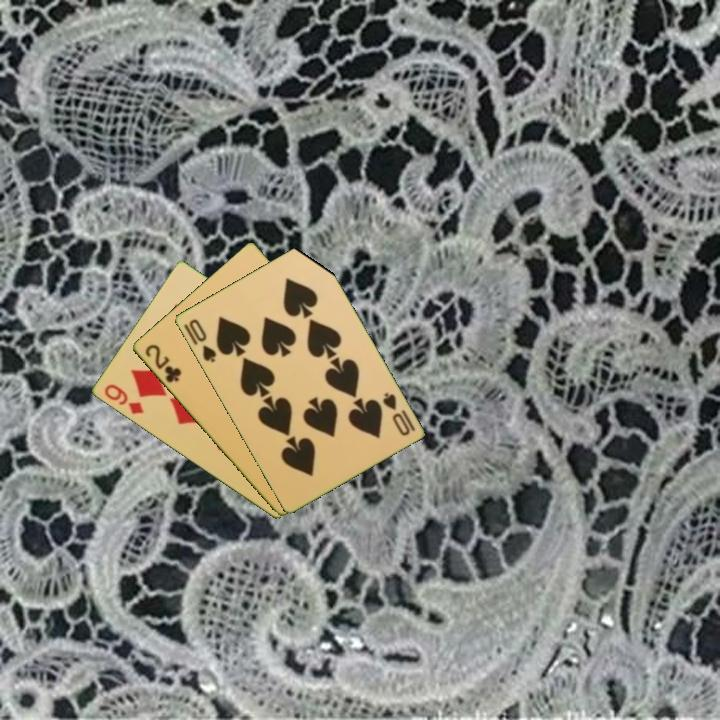10s: (379, 389, 418, 439), (185, 315, 219, 365)
2c: (141, 341, 184, 386)
9d: (100, 380, 146, 417)
